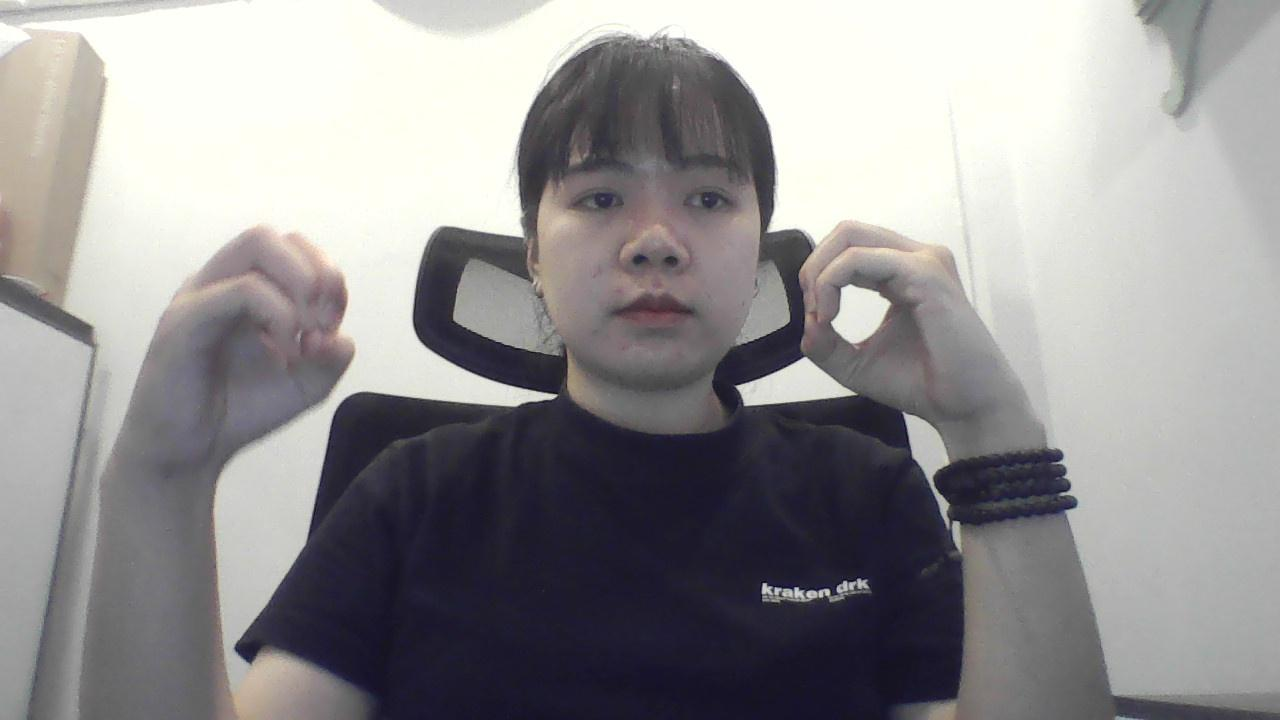O: (104, 202, 377, 480), (787, 192, 1013, 419)
